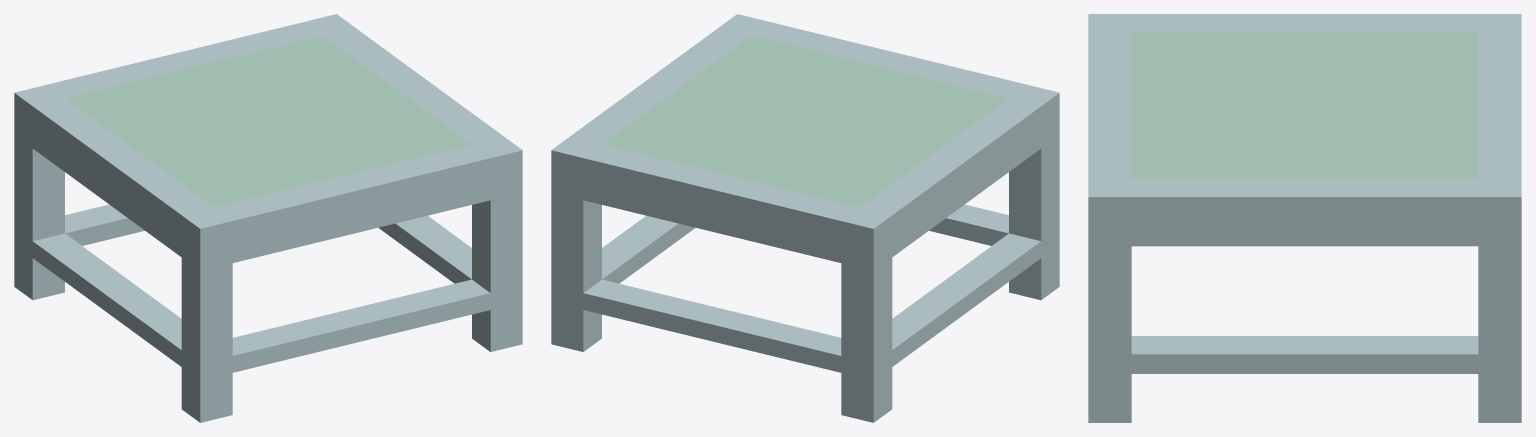
The model's file is tableCoffeeGlassSquare.obj.
3 renders of one model, left to right at view 1: azimuth 30°, elevation 25°; view 2: azimuth 150°, elevation 25°; view 3: azimuth 270°, elevation 25°, orthographic. The views are drawn at different scales.
Parts seen in each view (by area): view 1: tableCoffeeGlassSquare; view 2: tableCoffeeGlassSquare; view 3: tableCoffeeGlassSquare.
Part boxes in pixels (left/top/right/bottom): tableCoffeeGlassSquare: left=14, top=14, right=522, bottom=422; tableCoffeeGlassSquare: left=551, top=14, right=1059, bottom=422; tableCoffeeGlassSquare: left=1088, top=14, right=1521, bottom=422.
Size of the model in its own units: 0.4 by 0.23 by 0.4.
